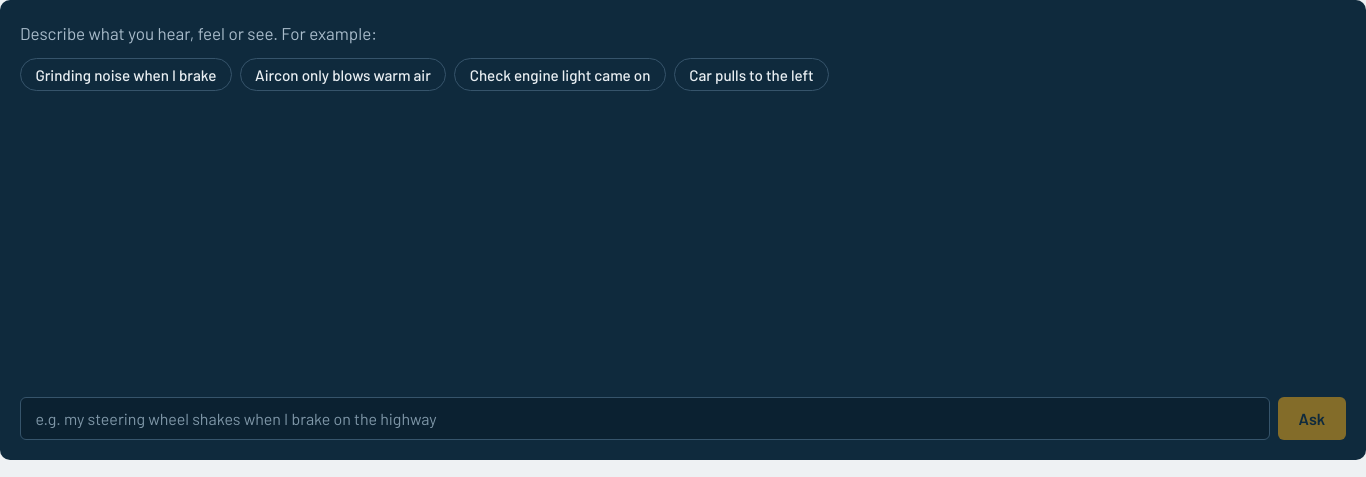
Scenario: ChatAssistant › shows a helpful error when the server is down
The image size is (1366, 477).
Type "Car makes a noise" into the field named "Describe your car problem" at (645, 418), box [20,397,1270,440]
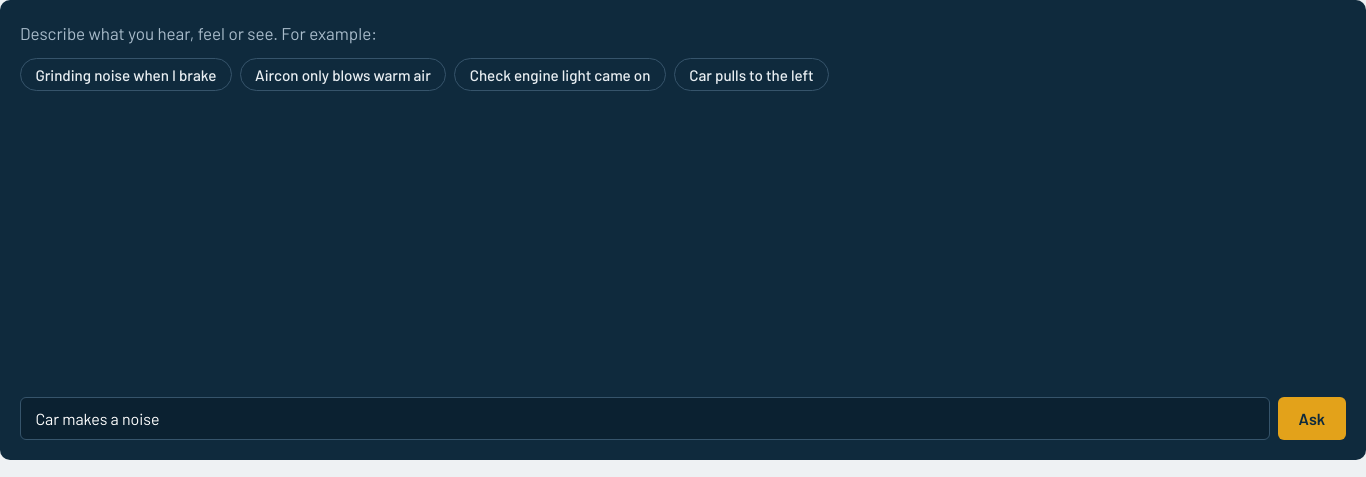
Click the button "Ask" at (1312, 418), box [1278,397,1346,440]
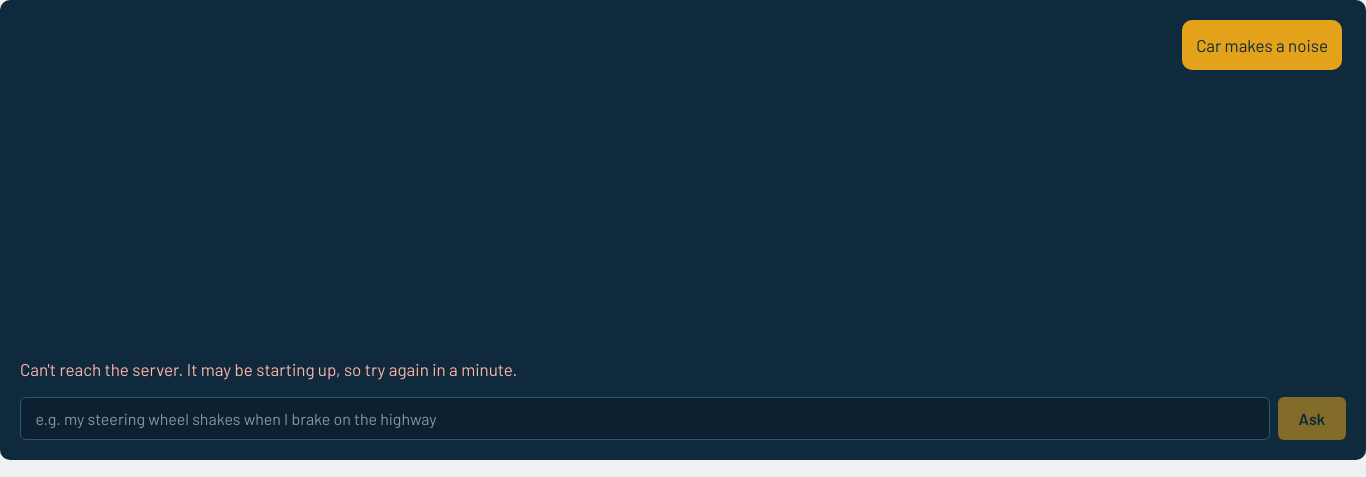
Result: the message shows "Can't reach the server" at [20,359,517,379]
